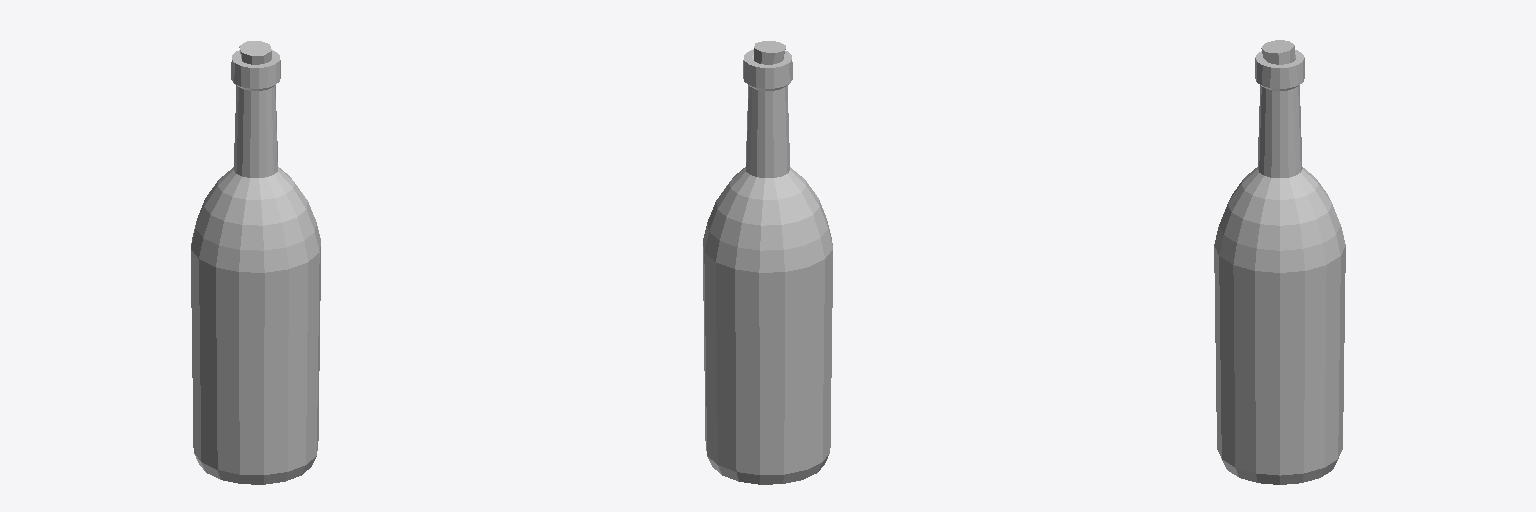
The model's file is wine.obj.
The picture shows the model from 3 angles: view 1: azimuth 30°, elevation 25°; view 2: azimuth 150°, elevation 25°; view 3: azimuth 270°, elevation 25°; orthographic projection.
Visible parts, largest first — view 1: bottle_low, cork_low; view 2: bottle_low, cork_low; view 3: bottle_low, cork_low.
Boxes of the visible parts, <box> form: bottle_low: <box>191,50,320,484</box>; cork_low: <box>239,41,271,64</box>; bottle_low: <box>703,49,832,484</box>; cork_low: <box>754,41,785,64</box>; bottle_low: <box>1214,50,1345,484</box>; cork_low: <box>1261,40,1294,64</box>.
Bounding box in the file's own units: 74.45 × 261 × 74.45.